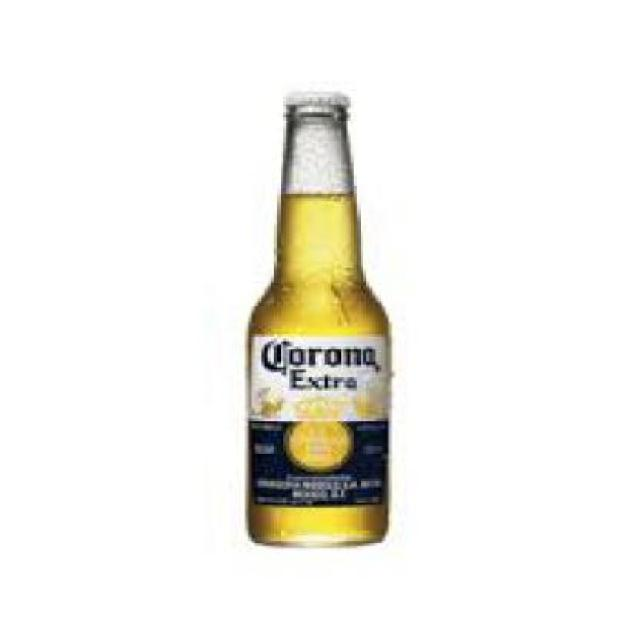GLASS: (245, 105, 388, 546)
METAL: (281, 89, 347, 105)
